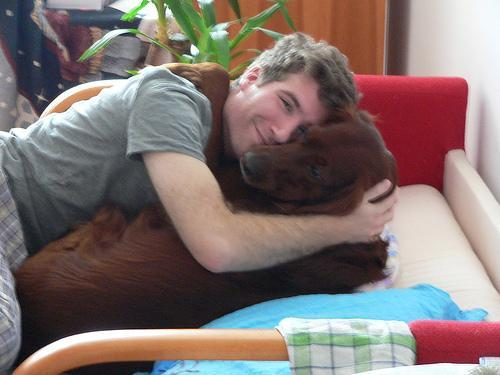Irish_setter: (18, 61, 400, 374)
